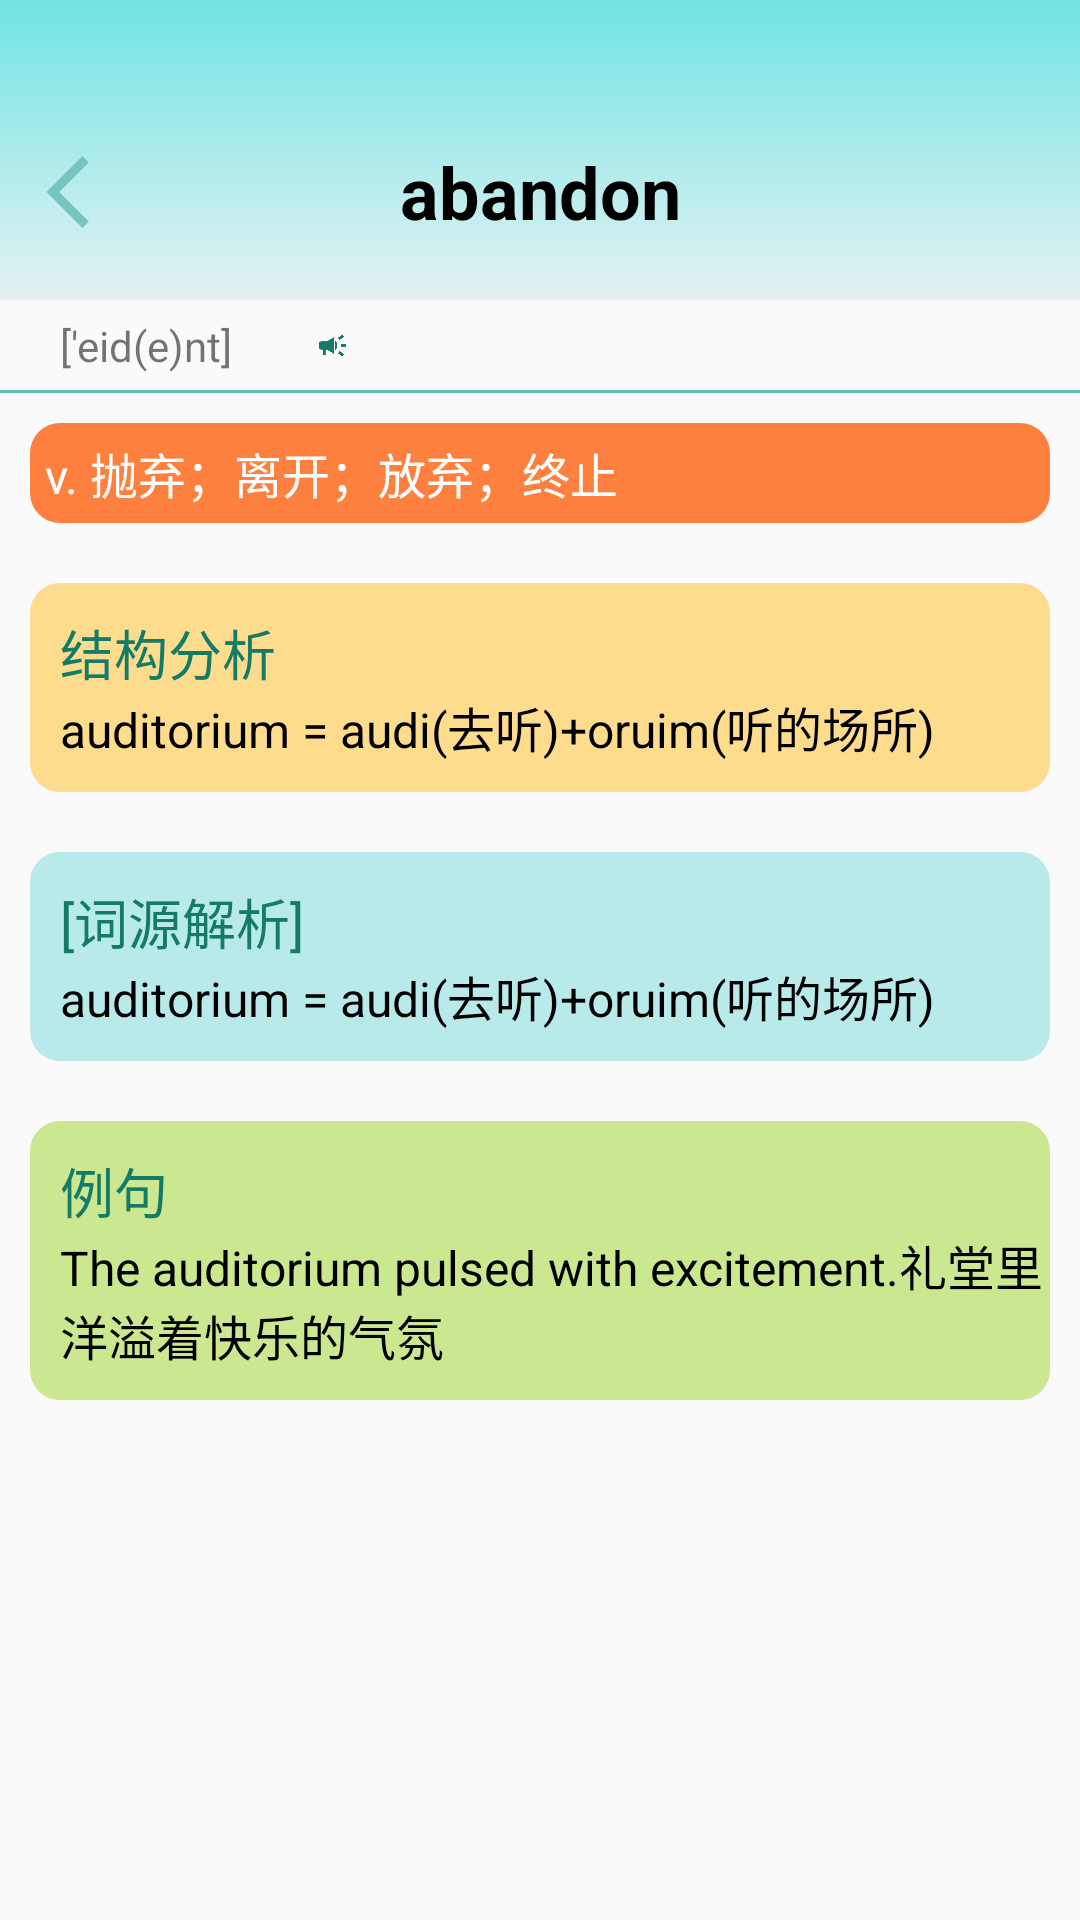

Where to tap for icons on this 1080px×1920px app screen, as (x=x, y=y):
horn: (x=332, y=345)
